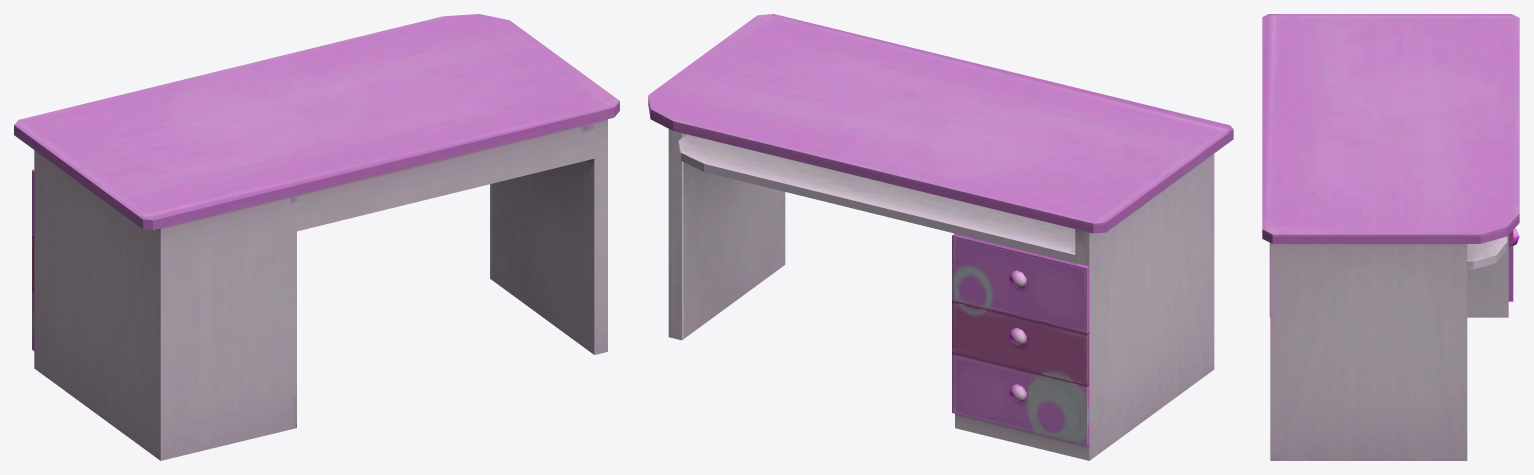
The model's file is furni_0200503_01.FBX.
The picture shows the model from 3 angles, left to right: view 1: azimuth 30°, elevation 25°; view 2: azimuth 150°, elevation 25°; view 3: azimuth 270°, elevation 25°; orthographic projection. The views are drawn at different scales.
Visible parts, largest first — view 1: furni_0200503_01; view 2: furni_0200503_01; view 3: furni_0200503_01.
Boxes of the visible parts, x1,y1,x2,y2 form: furni_0200503_01: [14, 14, 619, 460]; furni_0200503_01: [648, 14, 1233, 460]; furni_0200503_01: [1262, 14, 1519, 460].
Size of the model in its own units: 158 by 77.65 by 77.88.
1 material, 1 textured.
